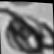correct: (0, 5, 54, 54)
